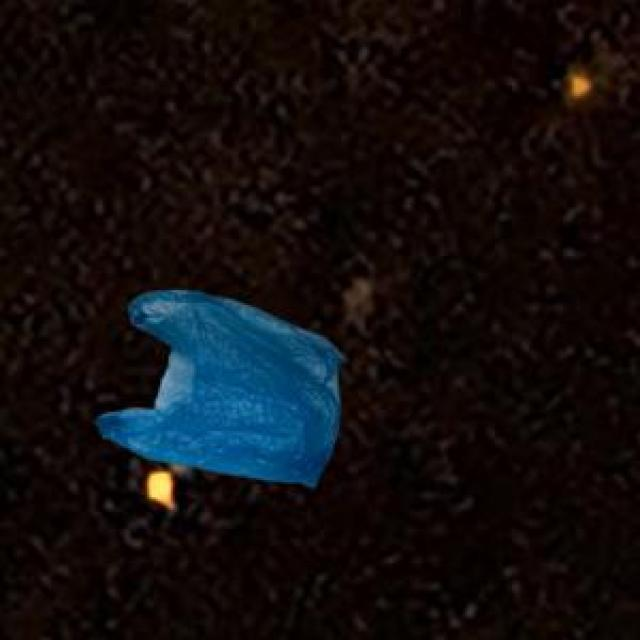plasticcover: (97, 279, 354, 509)
